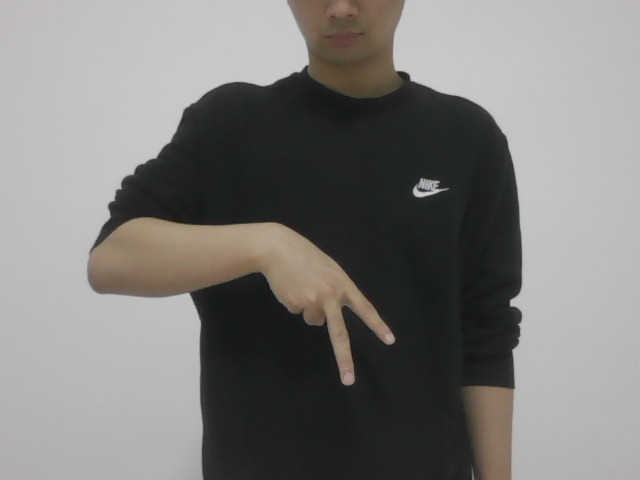walk: (247, 218, 400, 389)
